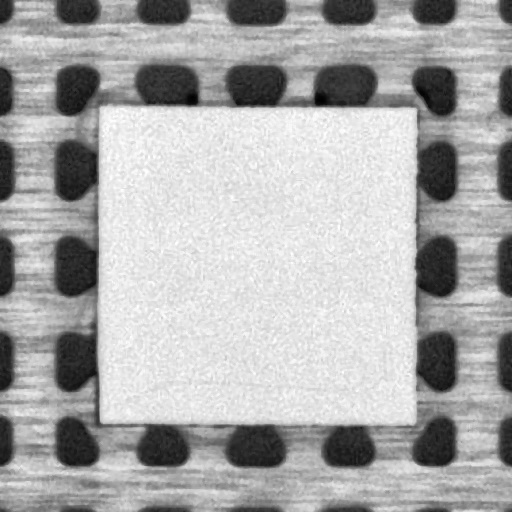DIE_CRACK: (102, 374, 362, 414)
